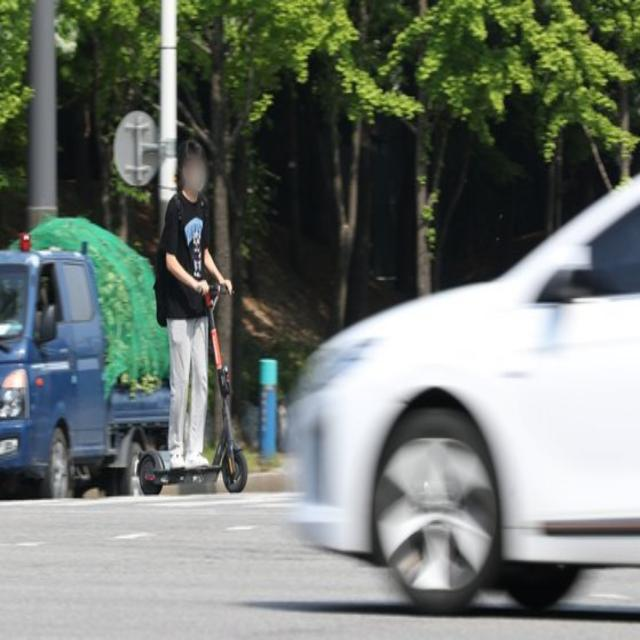bare_head: (176, 142, 215, 211)
human: (157, 144, 215, 459)
kickboard: (127, 446, 262, 501)
